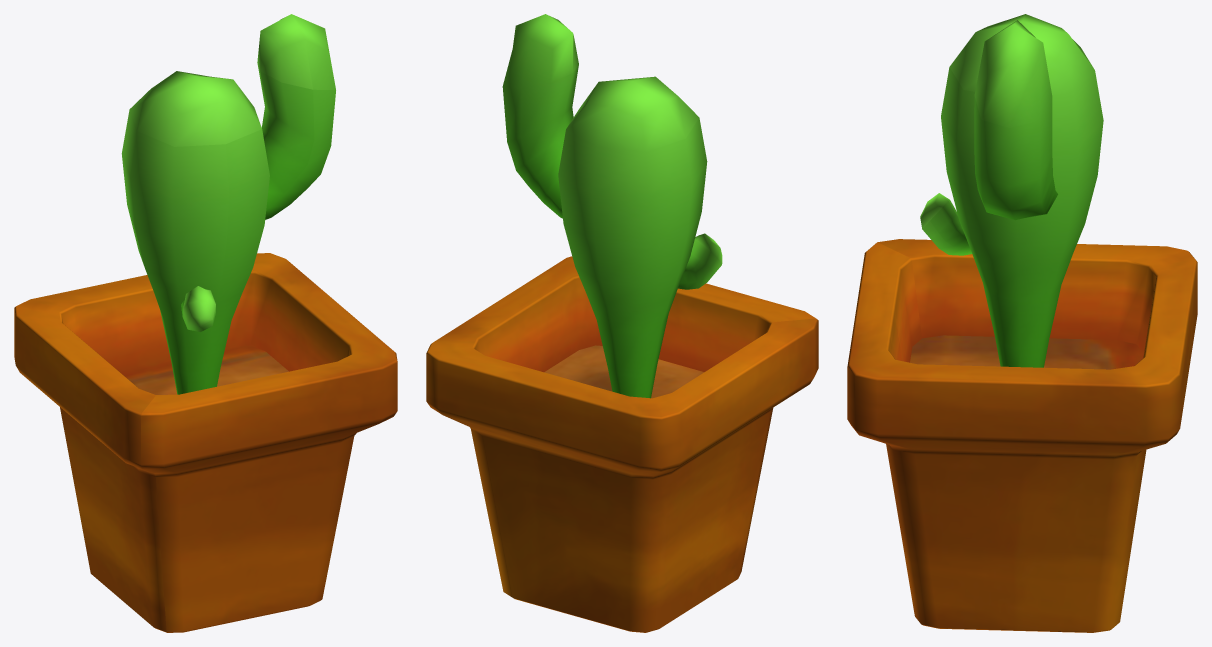
File: Pot_02.fbx
3 views of the same model, side by side, from view 1: azimuth 30°, elevation 25°; view 2: azimuth 150°, elevation 25°; view 3: azimuth 270°, elevation 25° (orthographic). The views are drawn at different scales.
Parts seen in each view (by area): view 1: Pot2; view 2: Pot2; view 3: Pot2.
Part boxes in pixels (x1=…): Pot2: x1=14, y1=14, x2=397, y2=632; Pot2: x1=426, y1=14, x2=818, y2=632; Pot2: x1=847, y1=14, x2=1197, y2=632.
Size of the model in its own units: 3.85 by 7.39 by 3.85.
